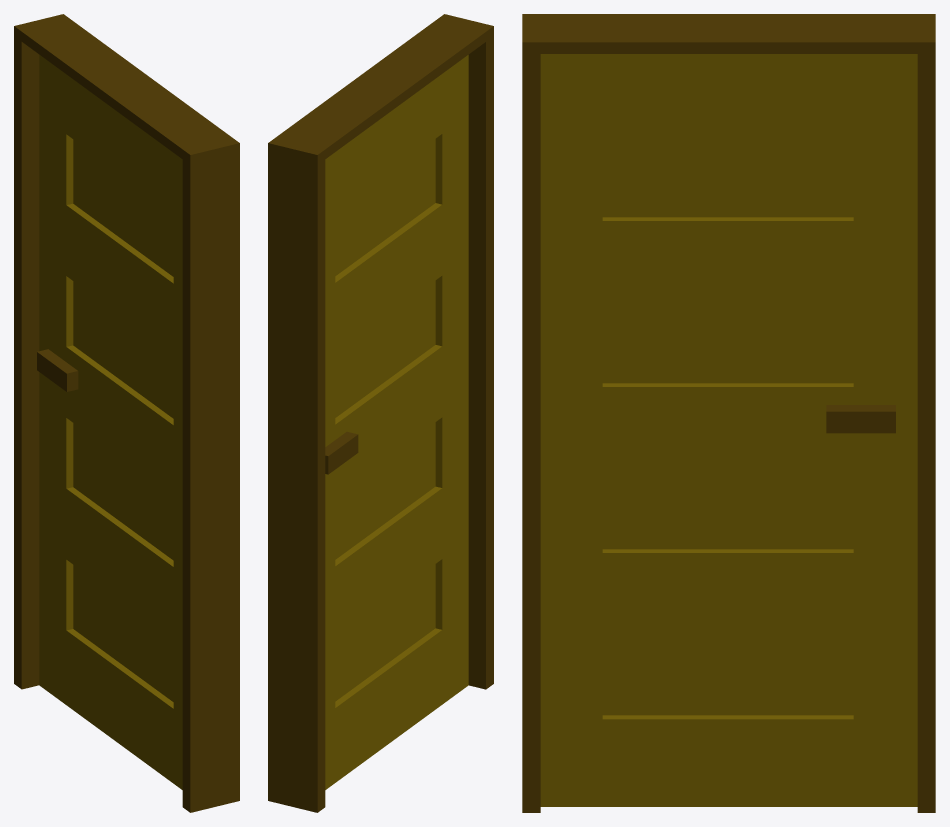
The model's file is door.fbx.
3 renders of one model, left to right at view 1: azimuth 30°, elevation 25°; view 2: azimuth 150°, elevation 25°; view 3: azimuth 270°, elevation 25°, orthographic. The views are drawn at different scales.
Visible parts, largest first — view 1: Door, Frame; view 2: Door, Frame; view 3: Door, Frame.
Part boxes in pixels (left/top/right/bottom): Door: left=21, top=32, right=182, bottom=789; Frame: left=14, top=14, right=239, bottom=812; Door: left=325, top=32, right=485, bottom=789; Frame: left=268, top=14, right=493, bottom=812; Door: left=540, top=42, right=917, bottom=806; Frame: left=522, top=14, right=935, bottom=812.
Size of the model in its own units: 64.33 by 808 by 393.
